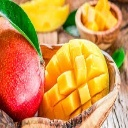mango: (0, 16, 45, 120)
